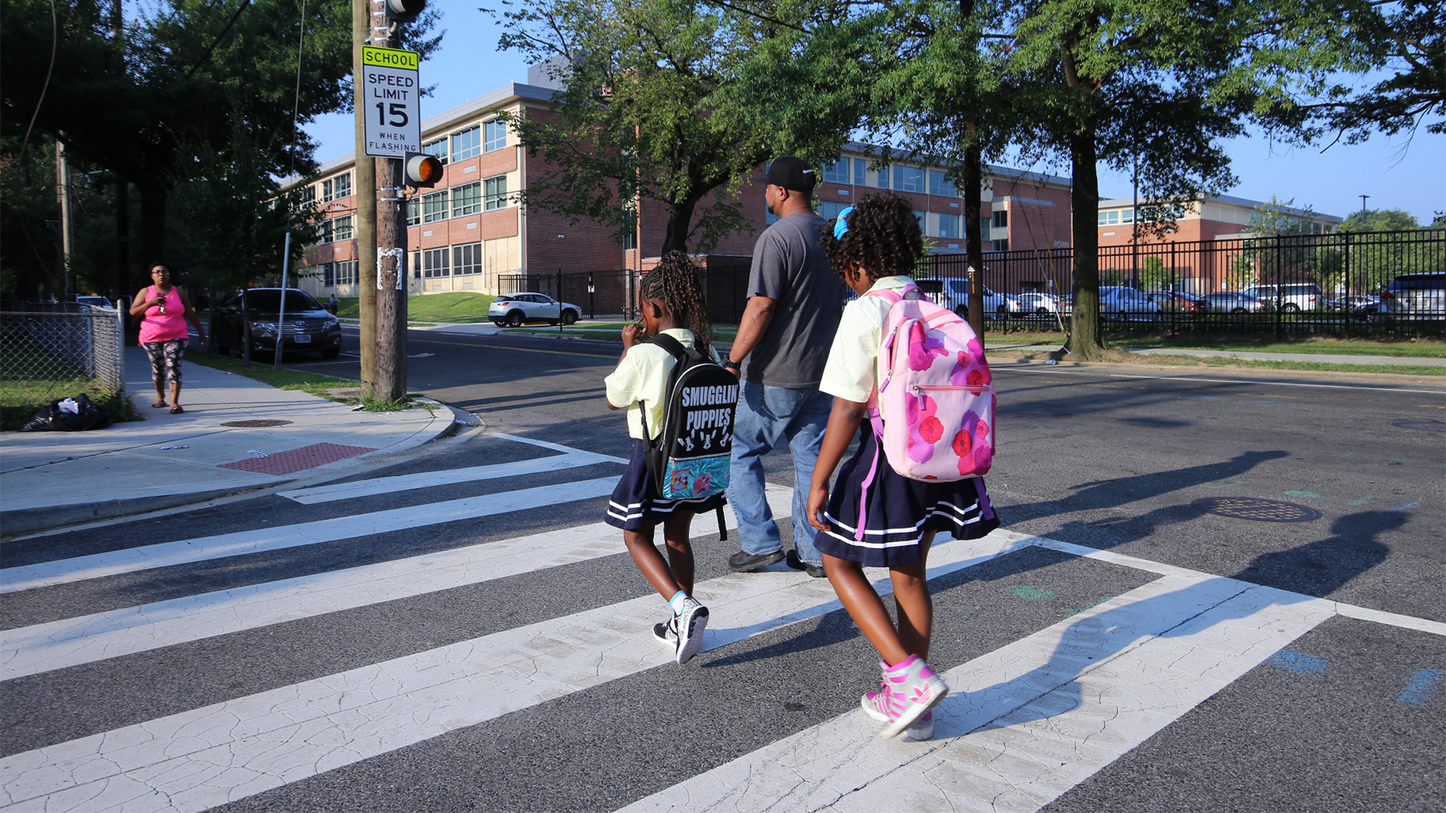Crosswalk: (7, 477, 1446, 813)
